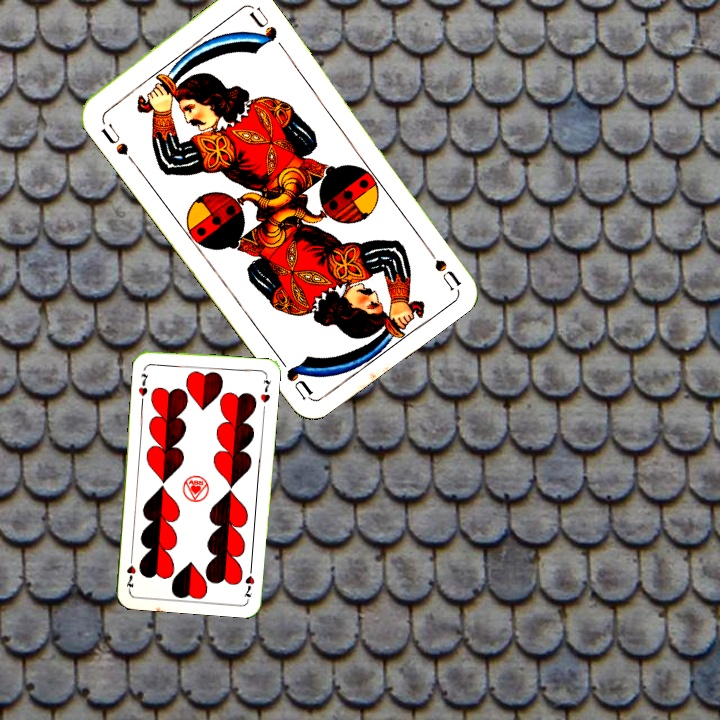H7: (240, 561, 257, 600), (134, 369, 151, 399)
SU: (419, 238, 463, 292), (97, 119, 138, 167)
